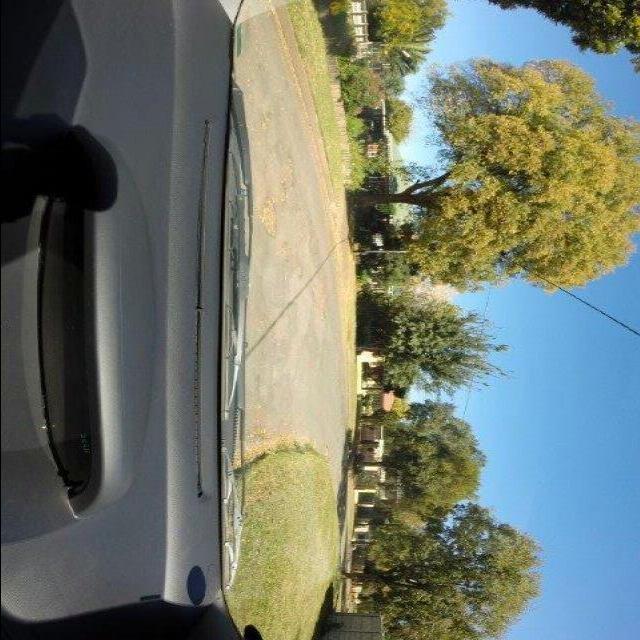lubang: (249, 199, 283, 241), (278, 148, 300, 198), (314, 280, 329, 322)
